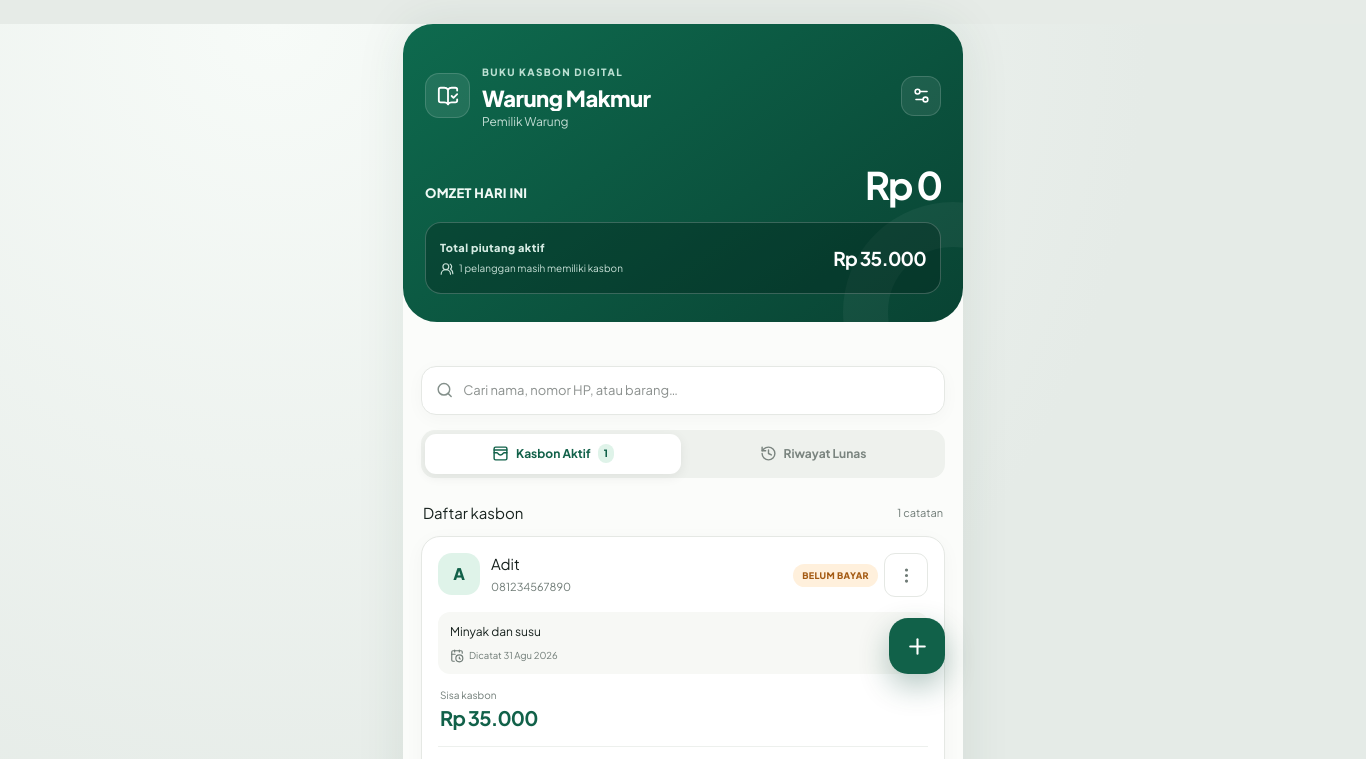
Test: Dashboard forms › deletes a debt only after explicit confirmation
The width and height of the screenshot is (1366, 759).
Check: the heading "Adit" is shown, box [491,554,520,574]
Click the button named "Menu kasbon Adit" at (906, 576), box [884,554,928,598]
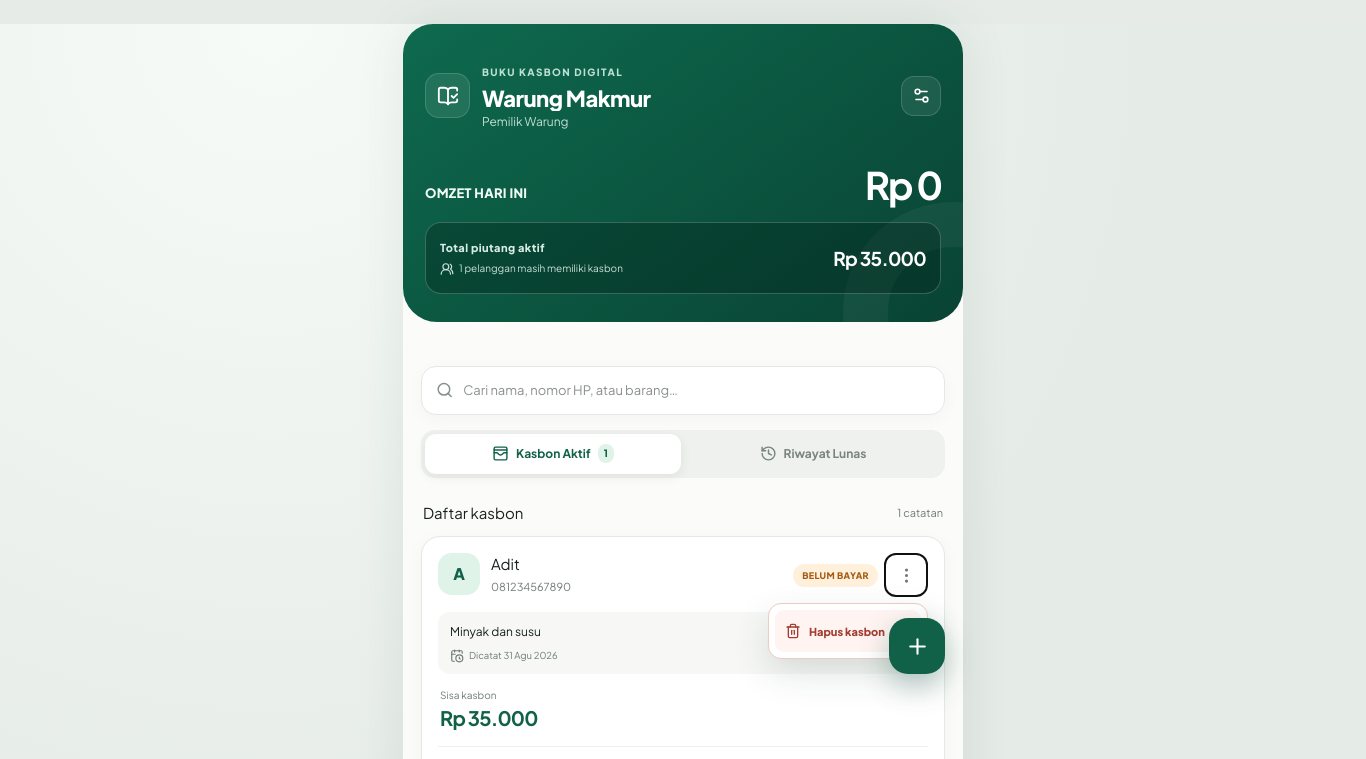
Click the button "Hapus kasbon" at (848, 632), box [775,610,921,652]
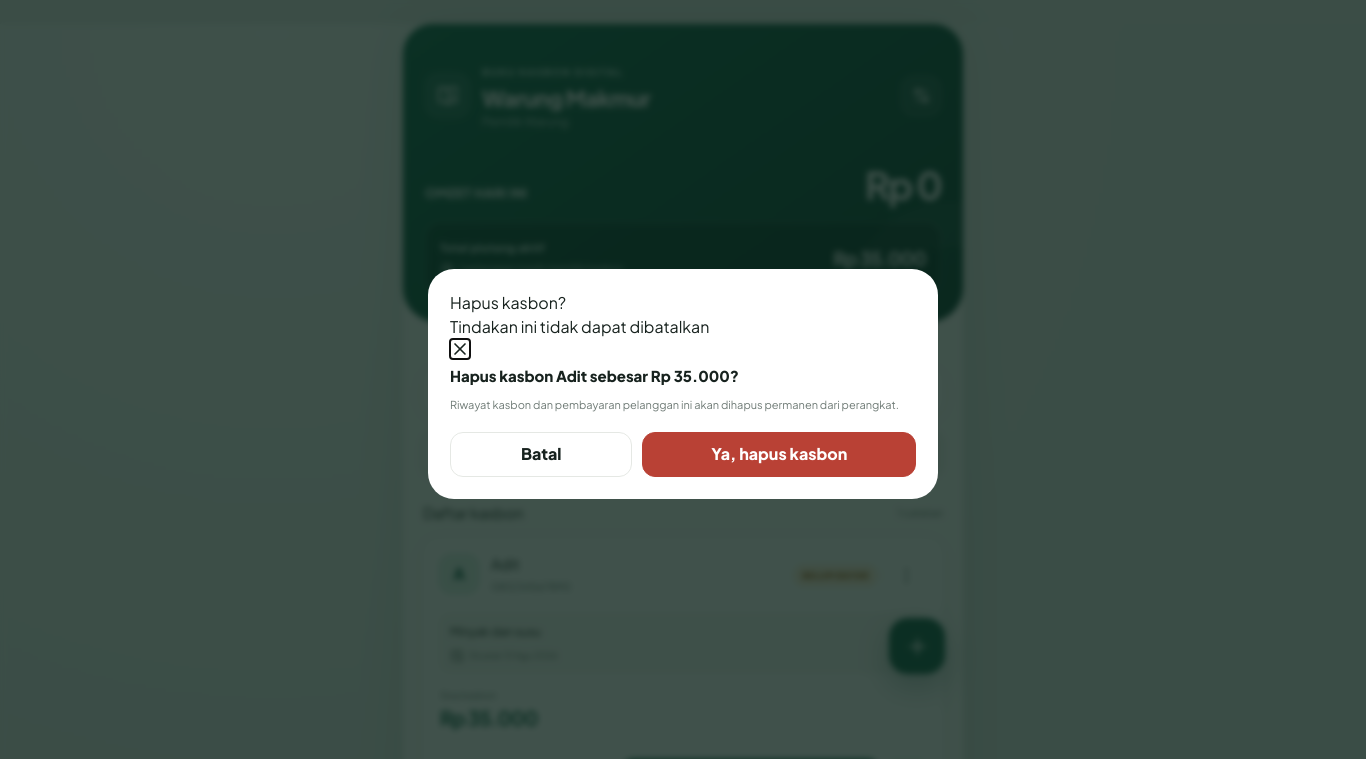
Click the button "Batal" at (541, 454), box [450,432,632,477]
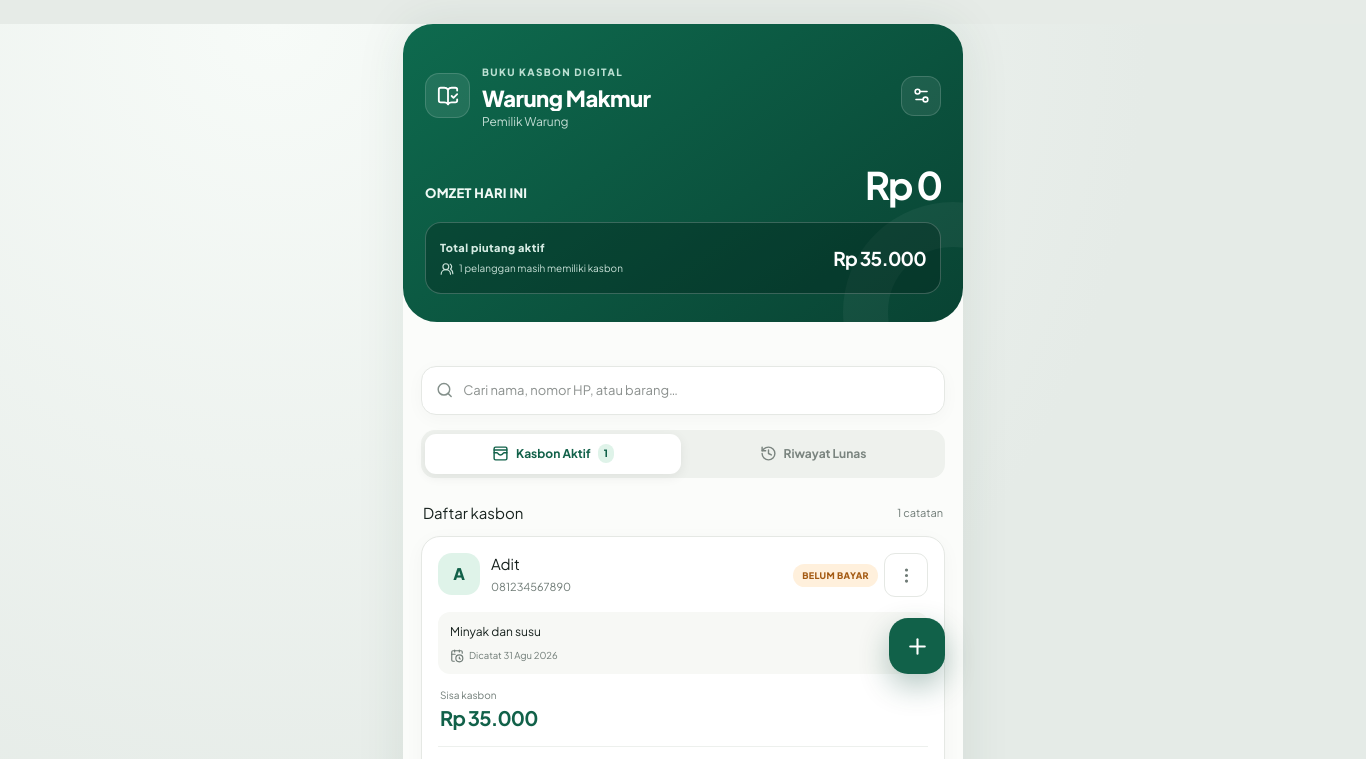
Check: the heading "Adit" is shown, box [491,554,520,574]
Click the button named "Menu kasbon Adit" at (906, 576), box [884,554,928,598]
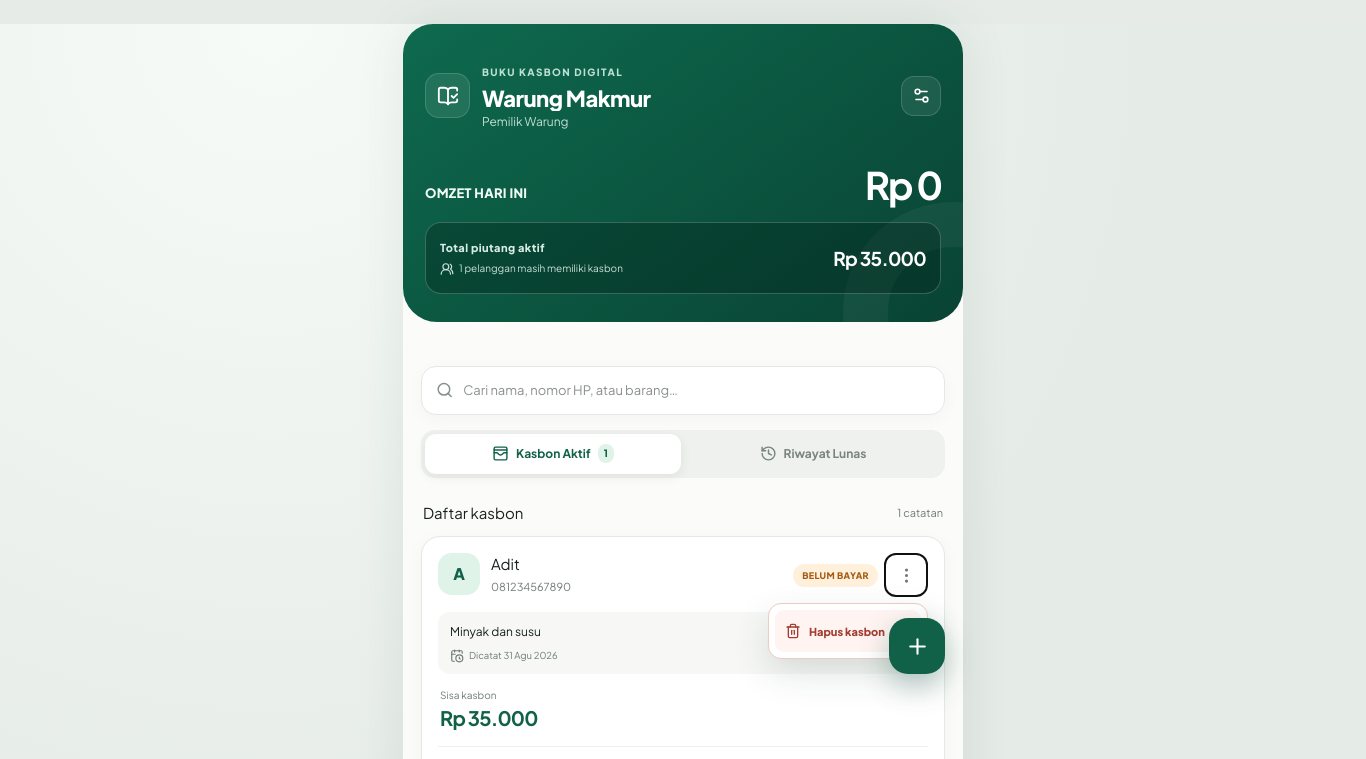
Click the button "Hapus kasbon" at (848, 632), box [775,610,921,652]
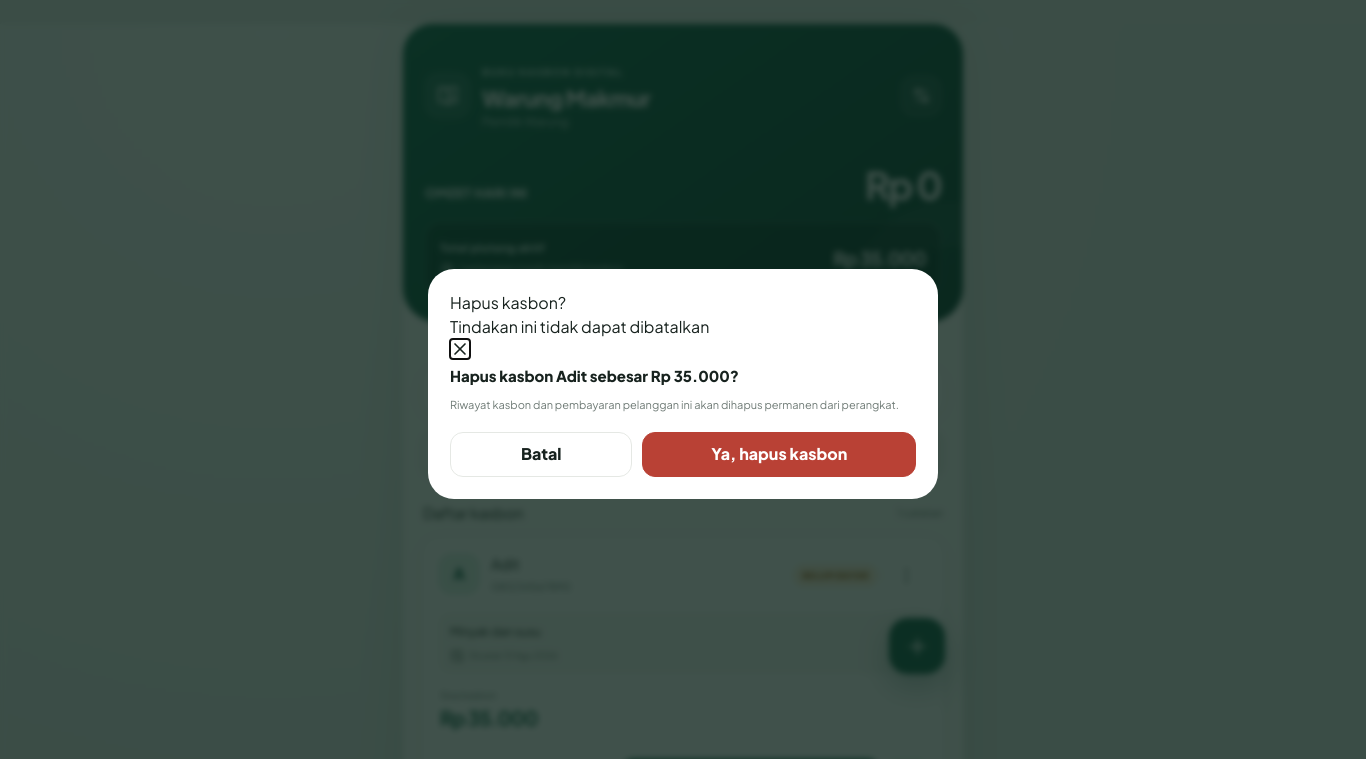
Click the button "Ya, hapus kasbon" at (779, 454), box [642,432,916,477]
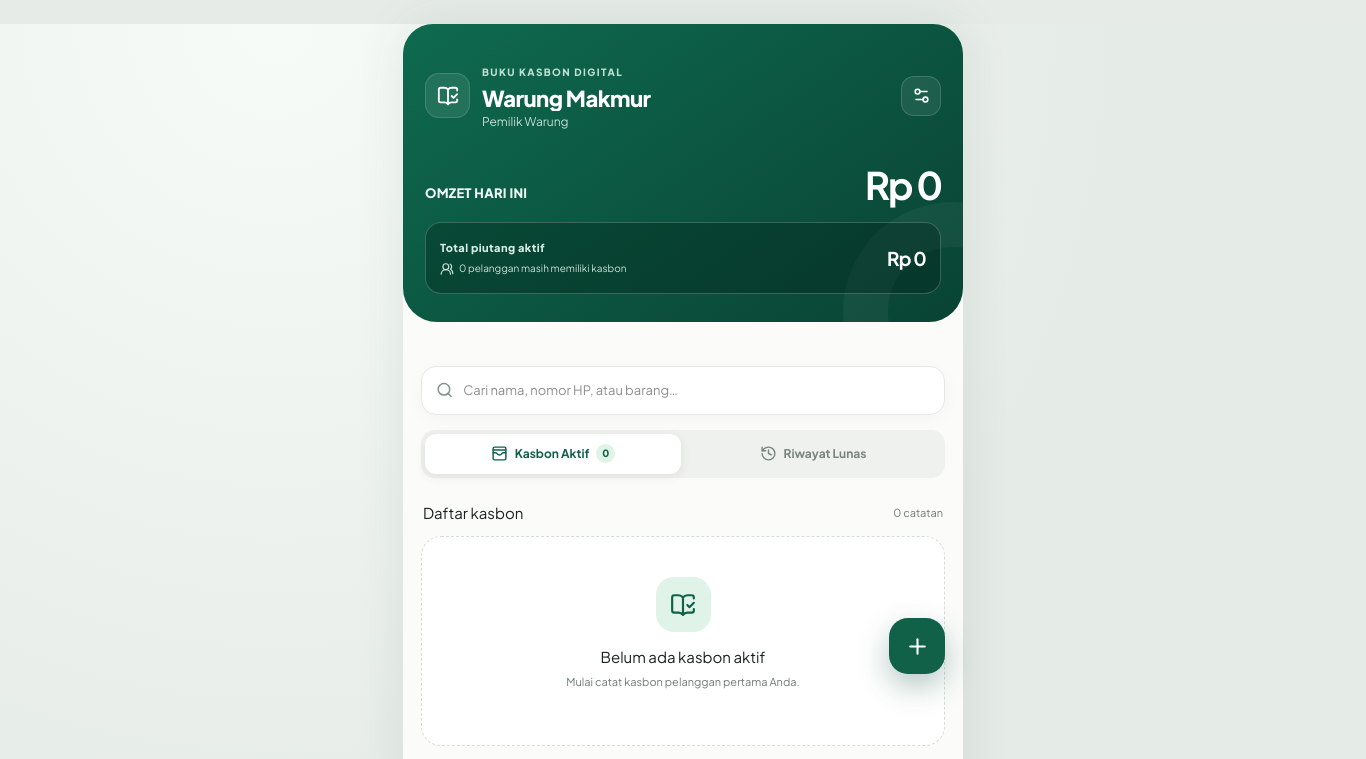
Check: the heading "Adit" is gone
